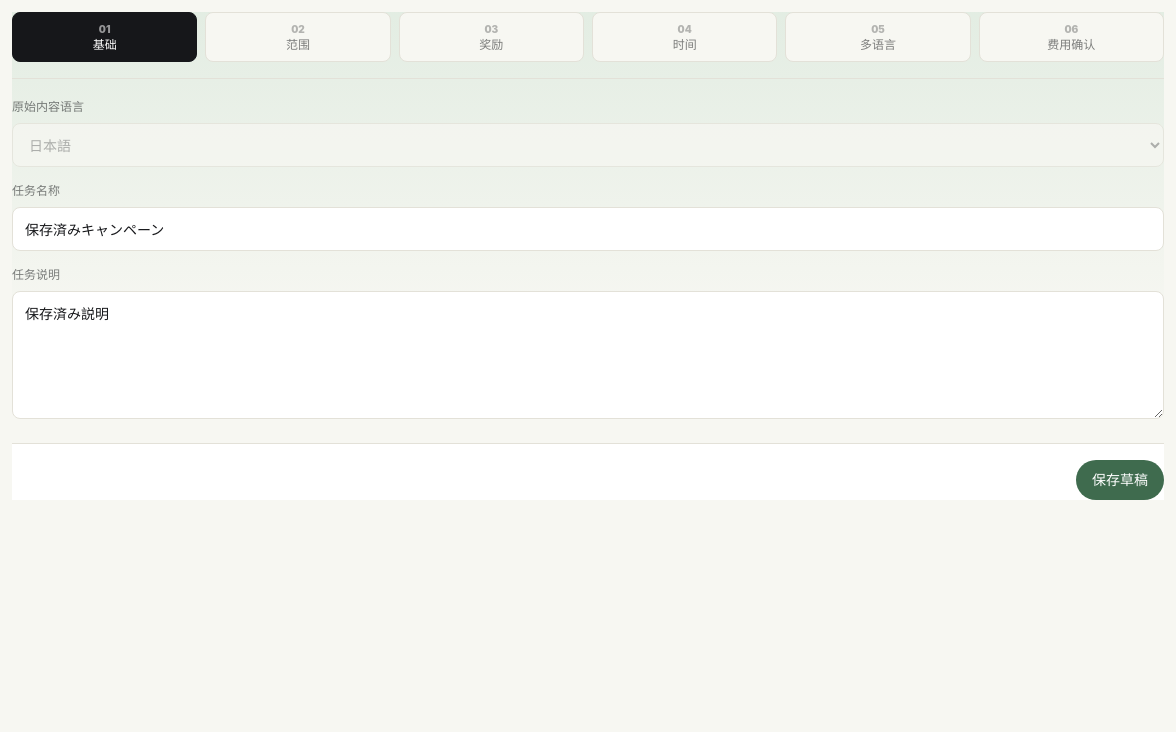
it: MerchantAffiliateTaskEditor › previews authoritative fees without performing a task write
Click the button "06 费用确认" at (1071, 37), box [979,12,1164,62]
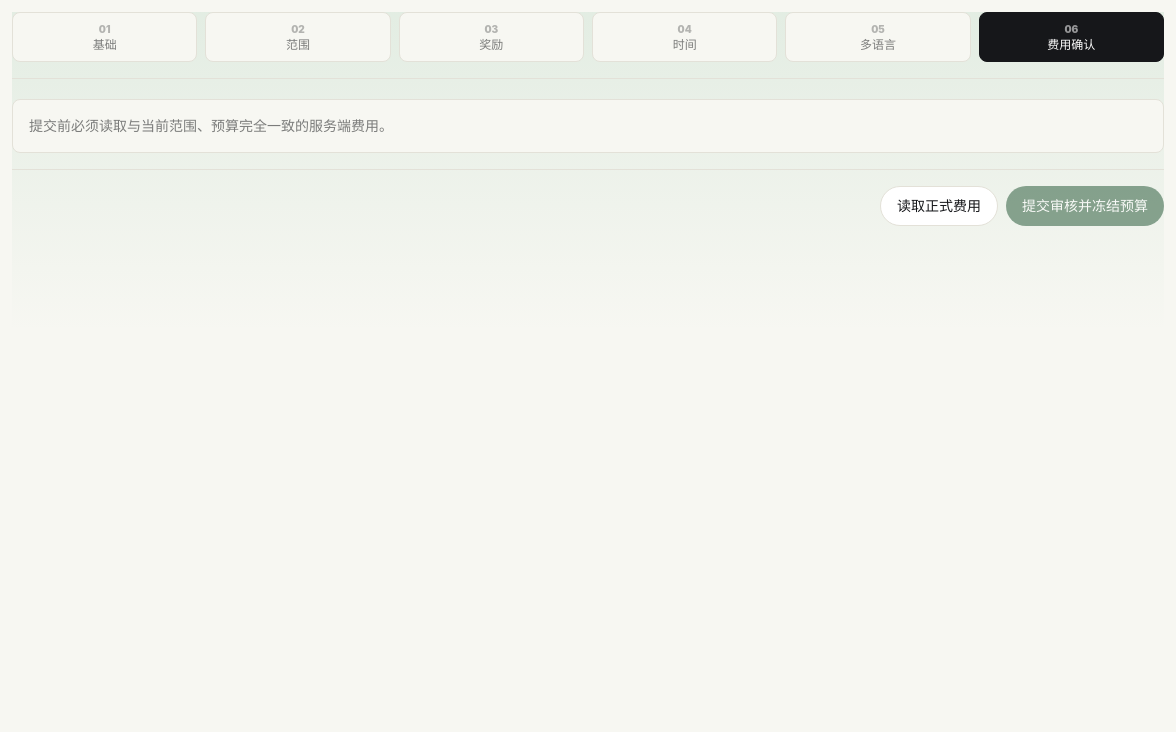
Click the button "读取正式费用" at (939, 206), box [880,186,998,226]
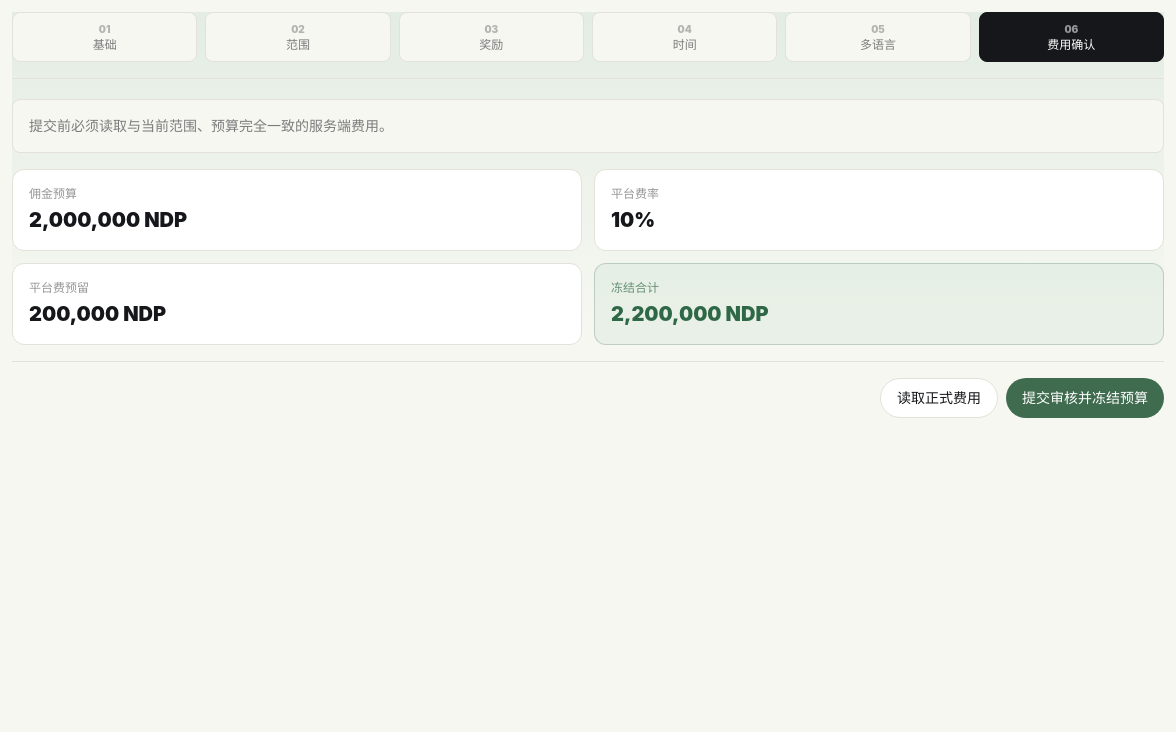
Check: the text "2,000,000 NDP" is shown, box [29,208,187,232]
Check: the text "10%" is shown, box [611,208,655,232]
Check: the text "200,000 NDP" is shown, box [29,302,166,326]
